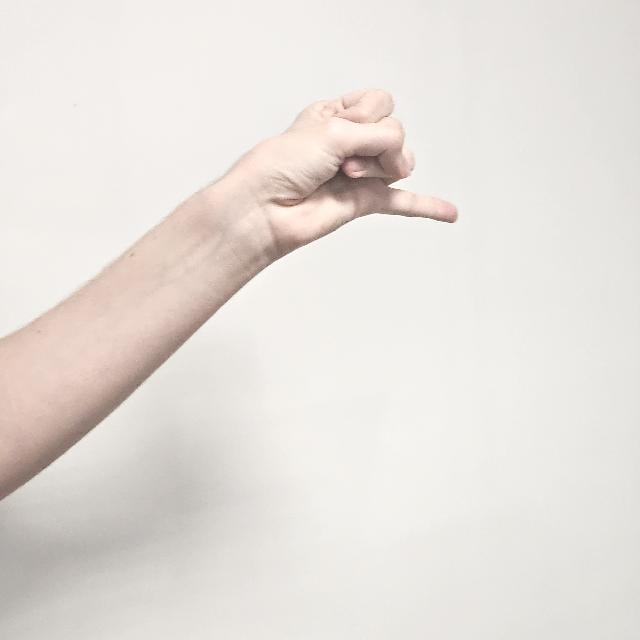Esquerda: (214, 73, 466, 254)
